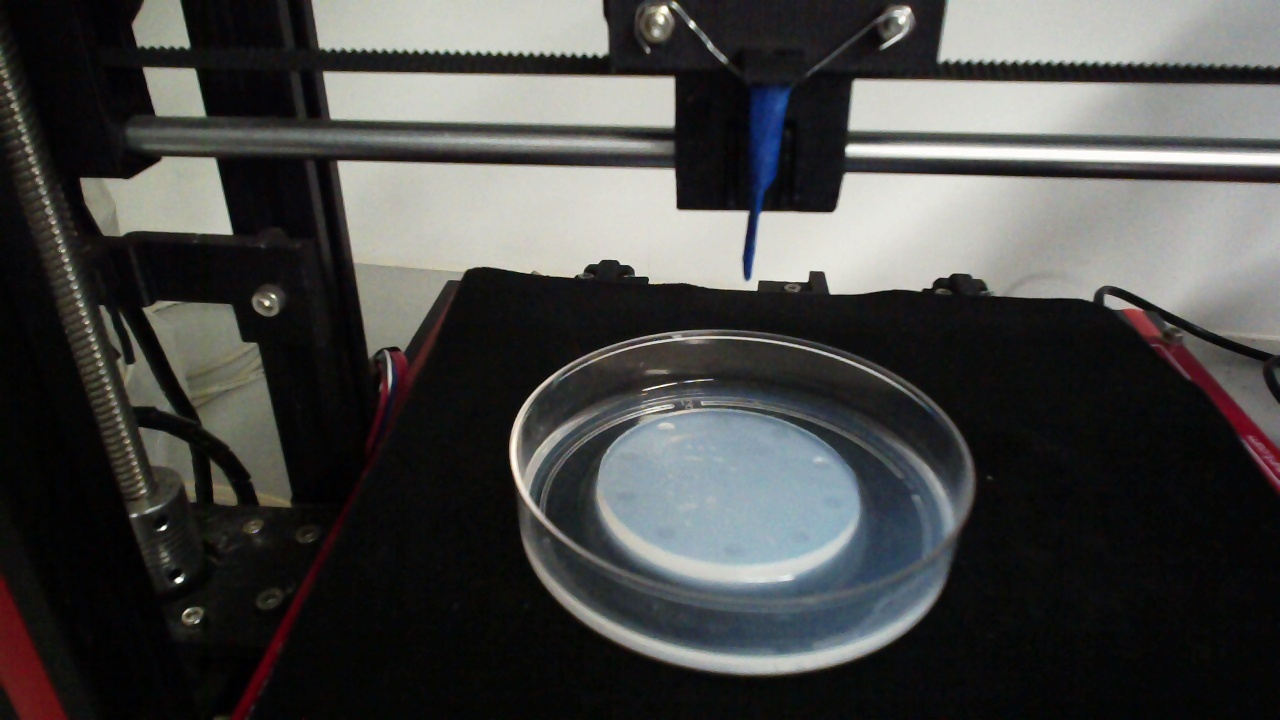groove: (785, 528, 811, 545), (723, 540, 746, 559), (820, 494, 845, 511), (655, 523, 677, 541), (615, 490, 639, 506), (655, 420, 677, 436), (711, 413, 733, 429), (768, 427, 791, 442), (810, 456, 833, 470), (619, 449, 640, 463)
needle: (741, 83, 788, 281)
